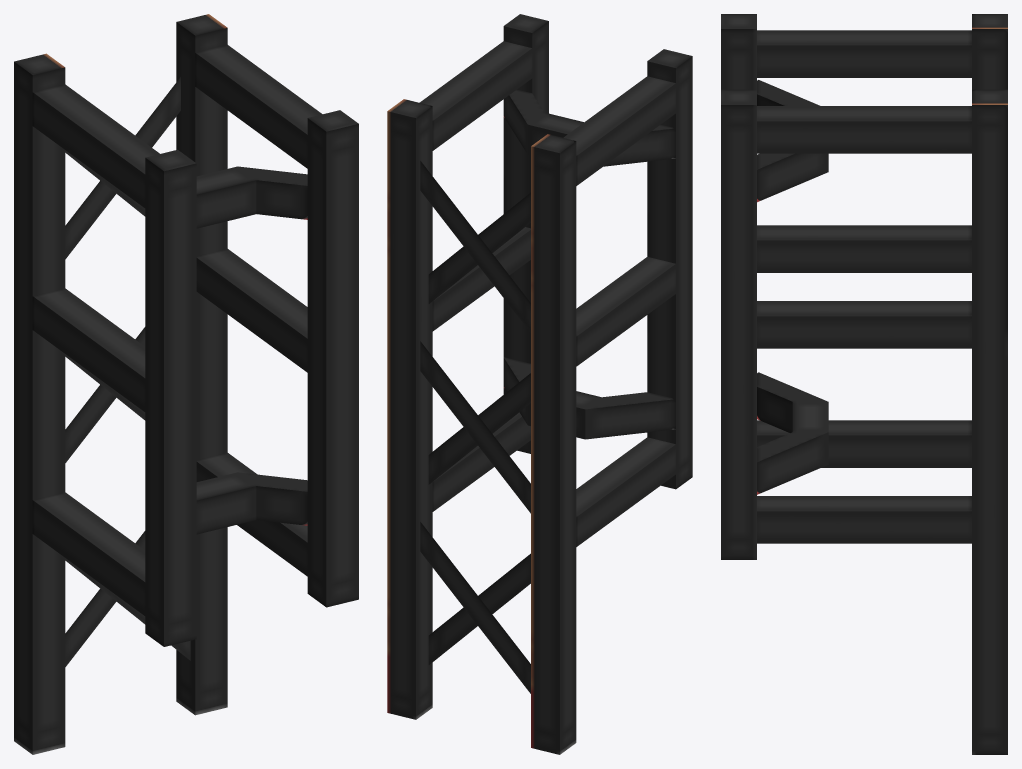
File: v2_erector.obj
3 views of the same model, side by side, from view 1: azimuth 30°, elevation 25°; view 2: azimuth 150°, elevation 25°; view 3: azimuth 270°, elevation 25° (orthographic). The views are drawn at different scales.
Visible parts, largest first — view 1: v2_erector; view 2: v2_erector; view 3: v2_erector.
Part boxes in pixels (box(x1,y1,x2,y2)): v2_erector: box(14, 14, 358, 754); v2_erector: box(387, 14, 692, 754); v2_erector: box(721, 14, 1007, 754).
Bounding box in the file's own units: 1.5 × 5 × 2.
